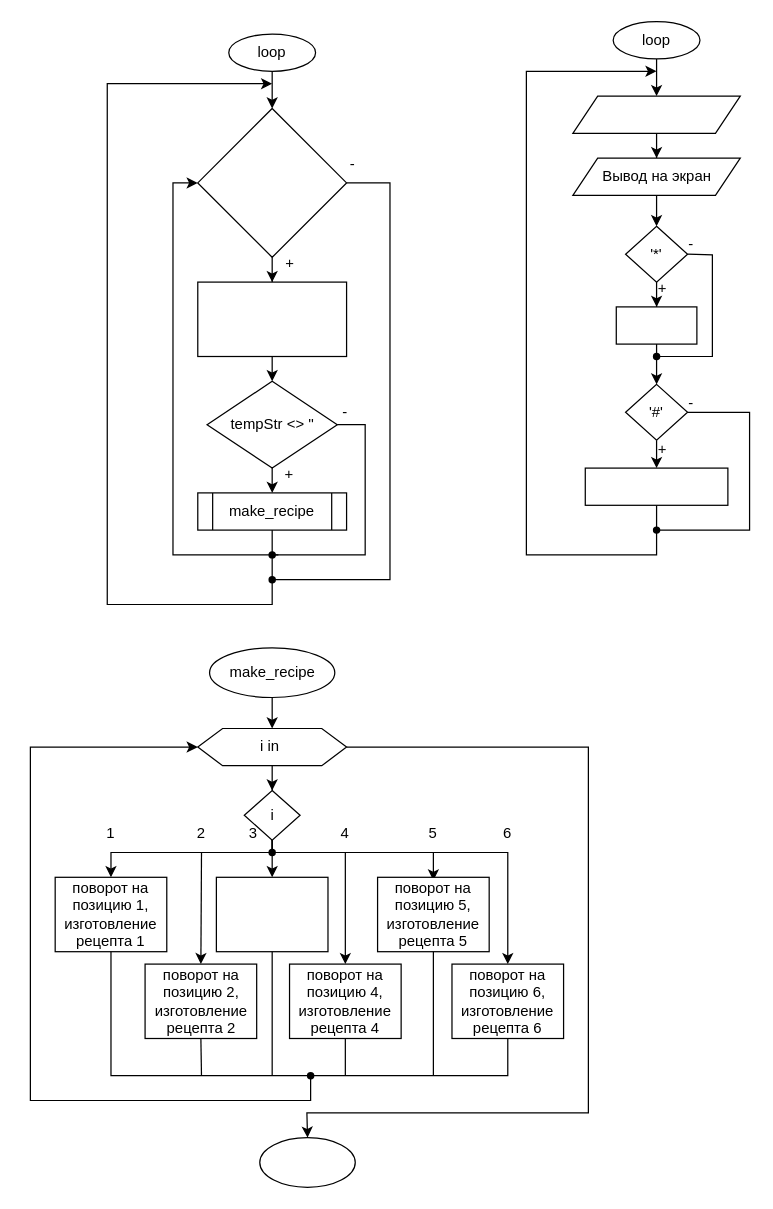
This 773x1209 diagram has some shape labels left out. Each missing label, with the centre of its shape:
Ввод с клавиатуры: (x=656, y=114)
конец: (x=307, y=1161)
ожидание приема данных с Serial tempStr: (x=272, y=318)
Передача данных в Serial: (x=656, y=486)
поворот на позицию 3, изготовление рецепта 3: (x=271, y=914)
пока не поднят стакан и не нажата авар. кнопка: (x=272, y=182)
Сброс: (x=656, y=325)
